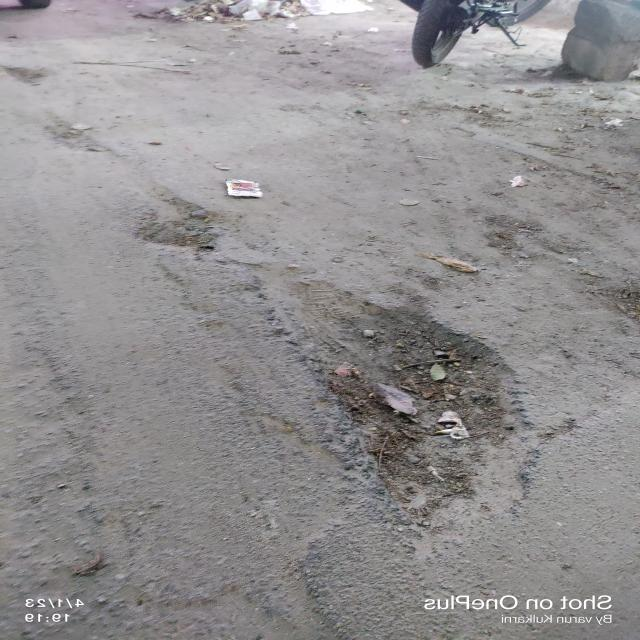potholes: (124, 210, 528, 519)
